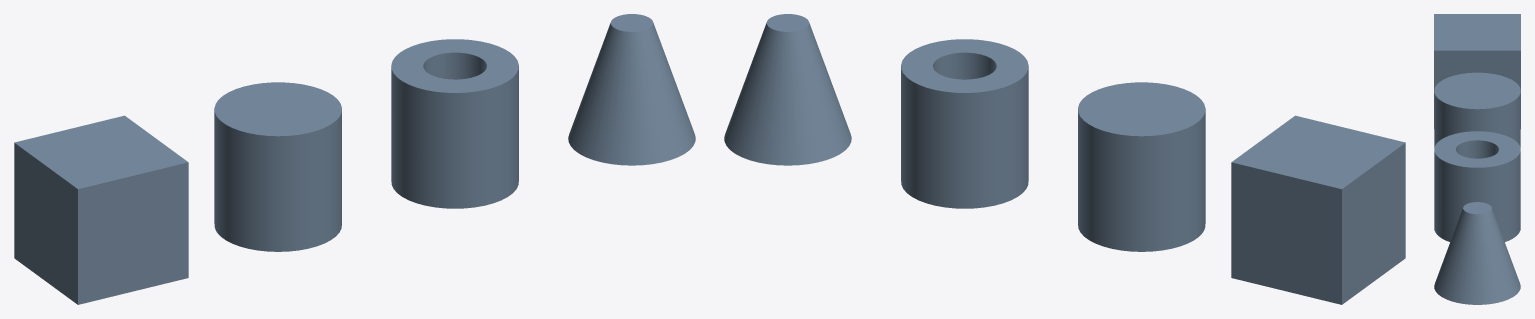
Rendered from solids_primitives.glb.
3 views of the same model, side by side, from view 1: azimuth 30°, elevation 25°; view 2: azimuth 150°, elevation 25°; view 3: azimuth 270°, elevation 25° (orthographic). The views are drawn at different scales.
Visible parts, largest first — view 1: box; view 2: box; view 3: box.
Part boxes in pixels (x1,y1,x2,y2): box: (14,14,695,304); box: (724,14,1405,304); box: (1434,14,1520,304).
Bounding box in the file's own units: 0.174 × 0.03 × 0.03.
